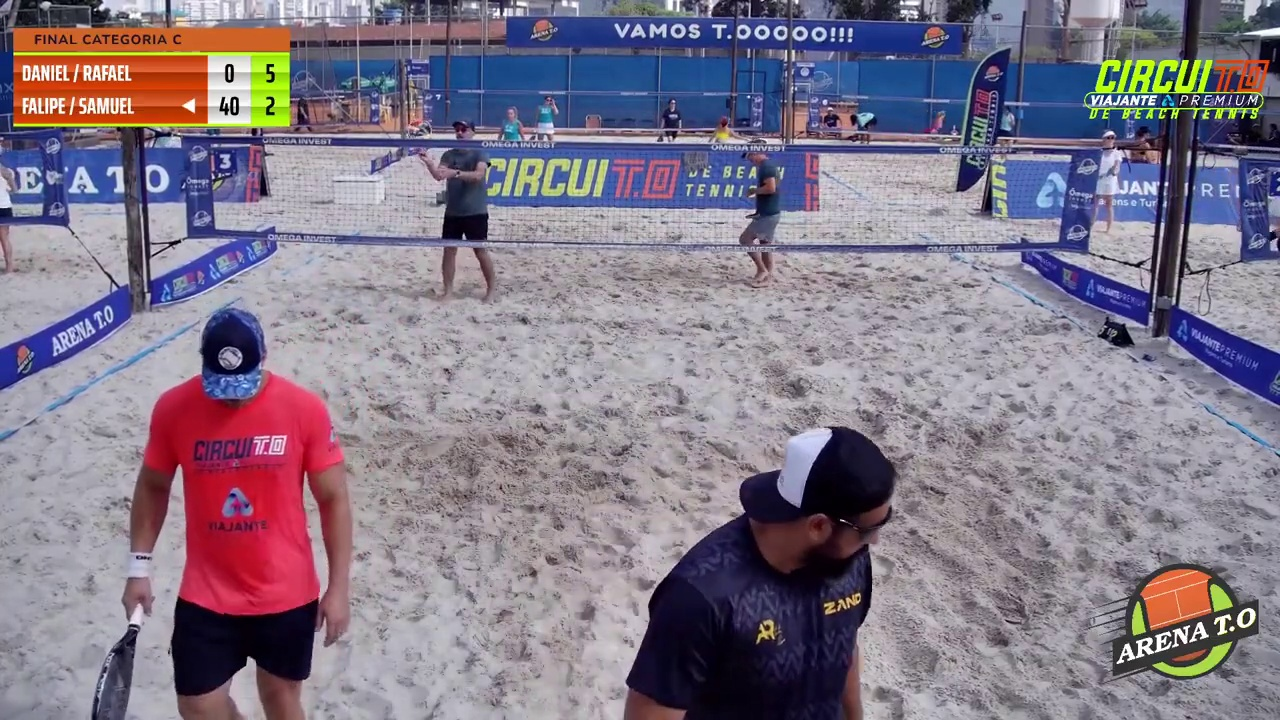court_line: (388, 0, 571, 390), (642, 0, 800, 384), (435, 0, 573, 363), (554, 0, 681, 288)
